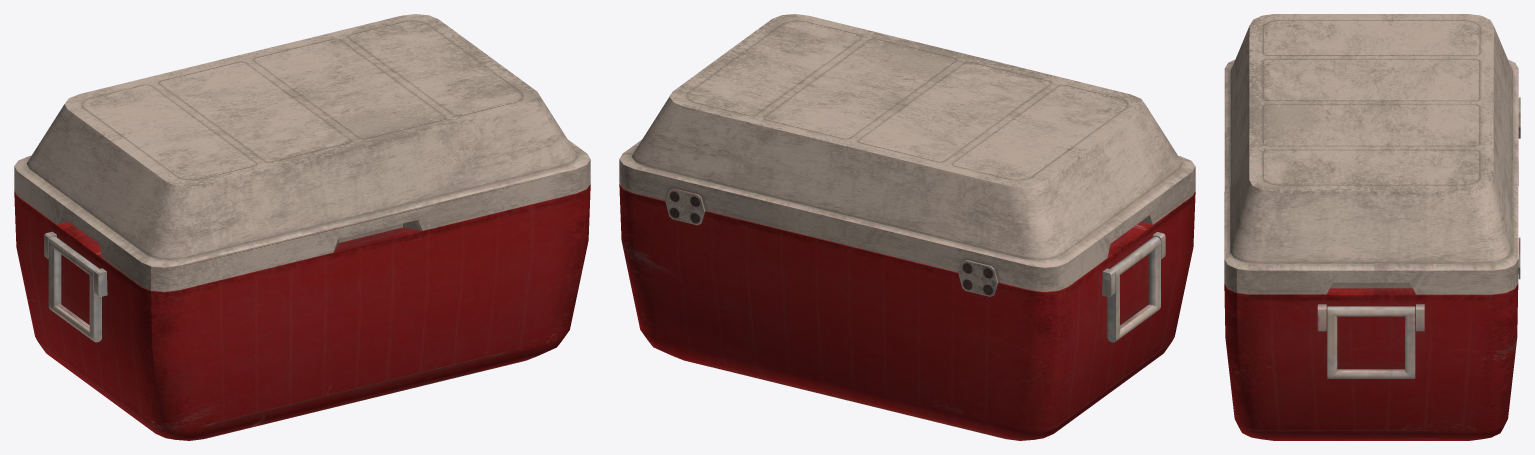
File: cooler-basic.glb
The picture shows the model from 3 angles, left to right: view 1: azimuth 30°, elevation 25°; view 2: azimuth 150°, elevation 25°; view 3: azimuth 270°, elevation 25°; orthographic projection.
Parts seen in each view (by area): view 1: Esky_Cooler_LowPoly; view 2: Esky_Cooler_LowPoly; view 3: Esky_Cooler_LowPoly.
Boxes of the visible parts, box(x1,y1,x2,y2) form: Esky_Cooler_LowPoly: box(14, 14, 590, 440); Esky_Cooler_LowPoly: box(619, 14, 1195, 440); Esky_Cooler_LowPoly: box(1224, 14, 1520, 440).
Bounding box in the file's own units: 0.6582 × 0.3489 × 0.3721.
Materials: 1 (1 with a texture image).
